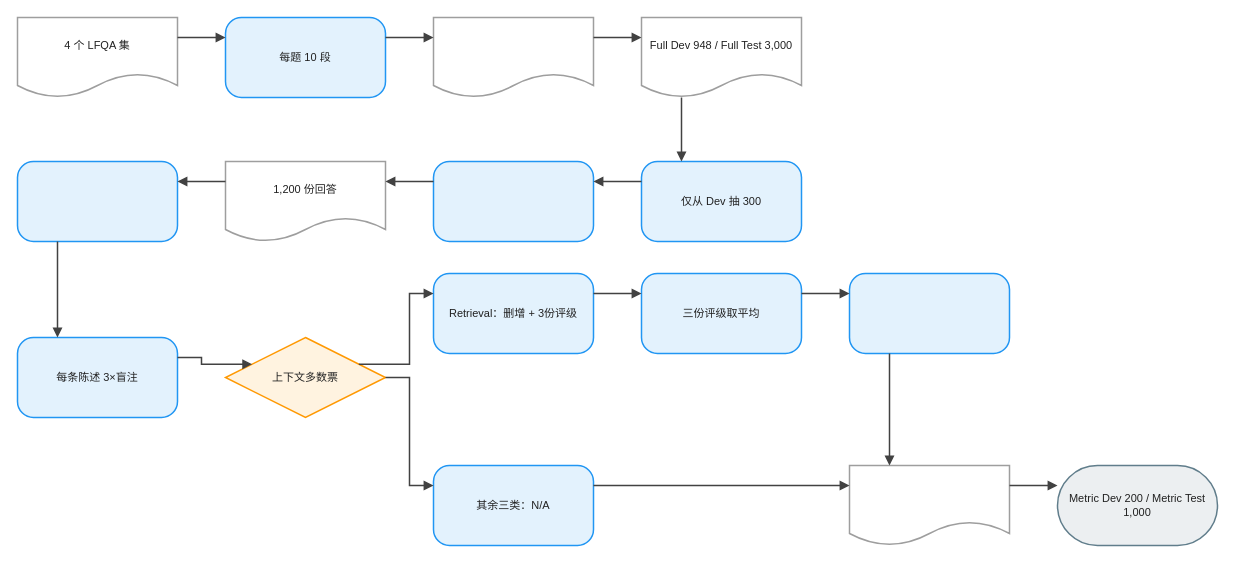
Some shapes in this 1236 by 564 pixel diagram are drawn without their labels. The centre of each missing label's shape, as x and y in pixels:
3,948 条查询: (x=513, y=57)
4 个生成模型: (x=513, y=201)
回聚合 1,200 份回答: (x=929, y=505)
适用陈述均值汇总: (x=929, y=313)
逐回答拆分陈述: (x=97, y=201)
